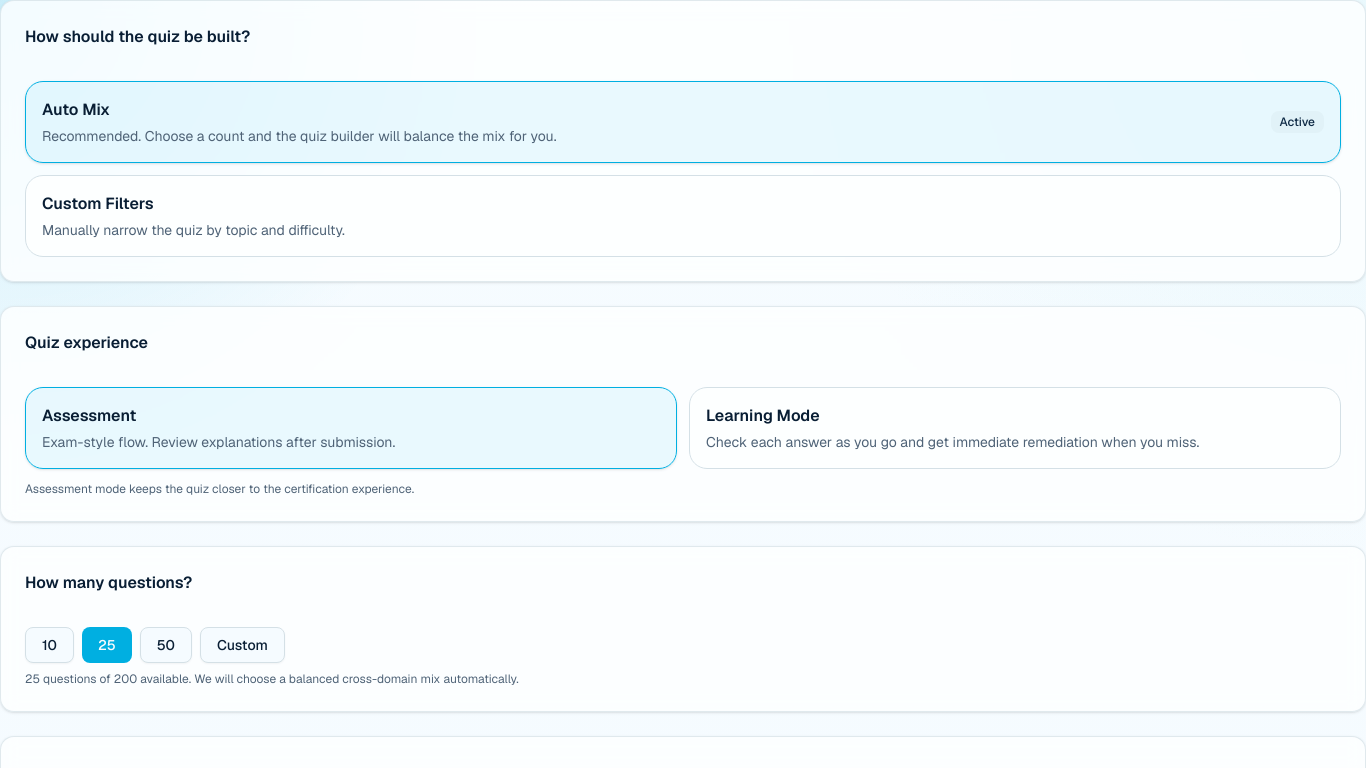
Scenario: QuizConfigForm › shows custom filters when Custom Filters mode is selected
Click the button "Custom Filters".
click(98, 204)  # box 25,175 -> 1341,257
(page scrolled)
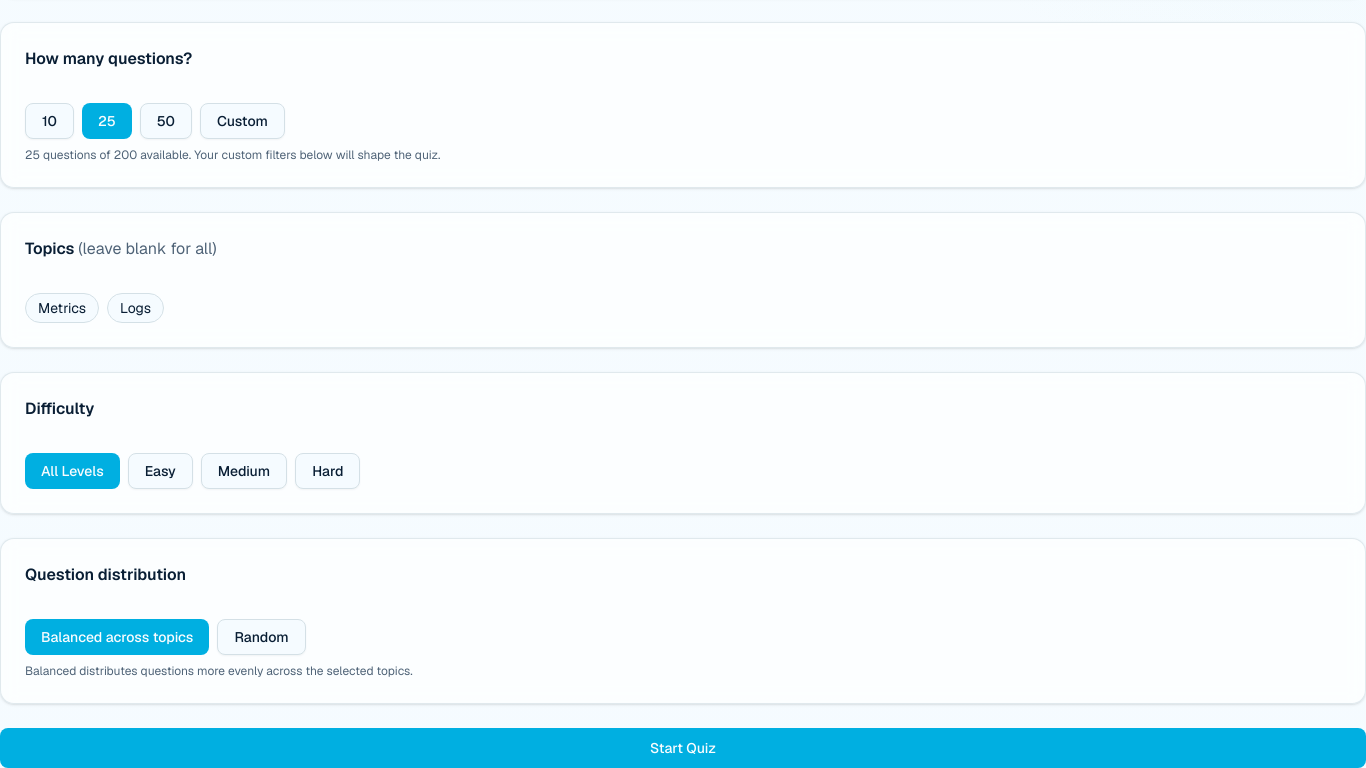
Now the text "Topics" is shown, box 25,238 -> 74,259
Now the button "All levels" is shown, box 25,453 -> 120,489
